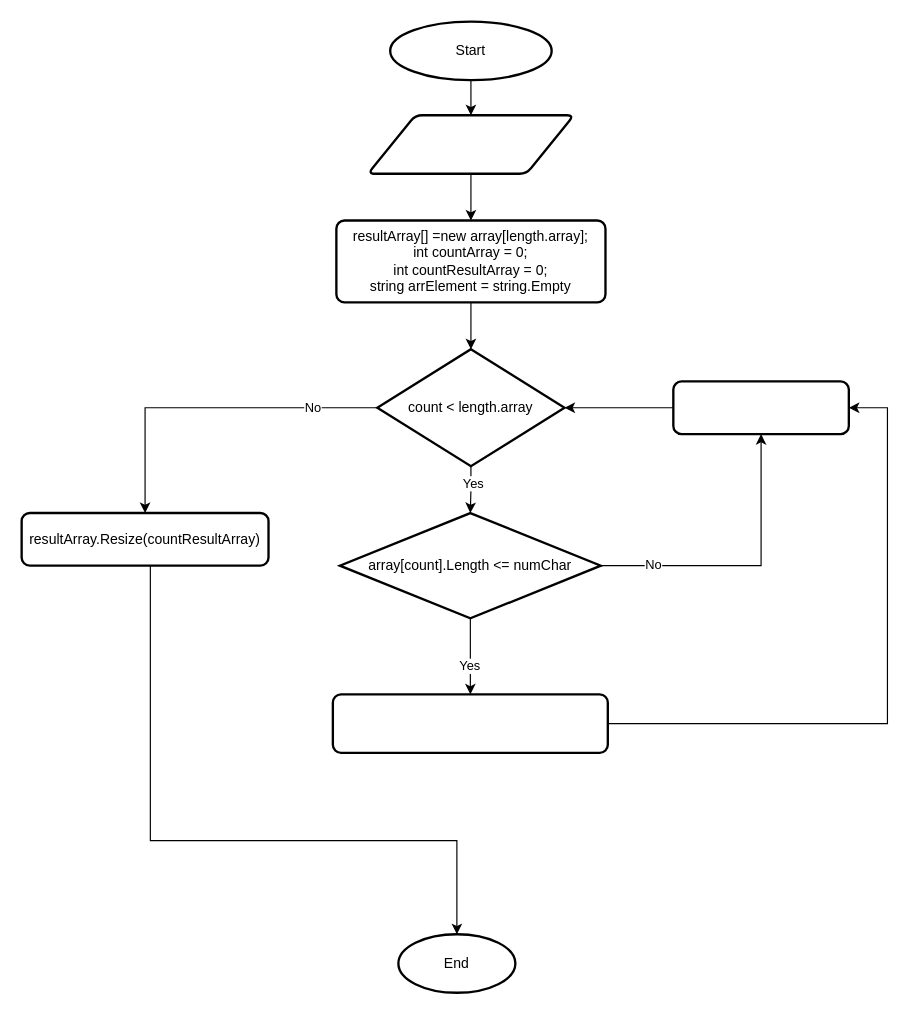
Image size: 917x1013. Some labels were removed from this diagram. The shapes that lost their labels are listed below. From the top down, each one's centre as x and y in pixels, then its label:
At point (470, 143): "Input string array[]; numChar".
At point (760, 407): "countArray ++".
At point (469, 723): "array[countResultArray] = array[count] ; countResultArray ++;".
